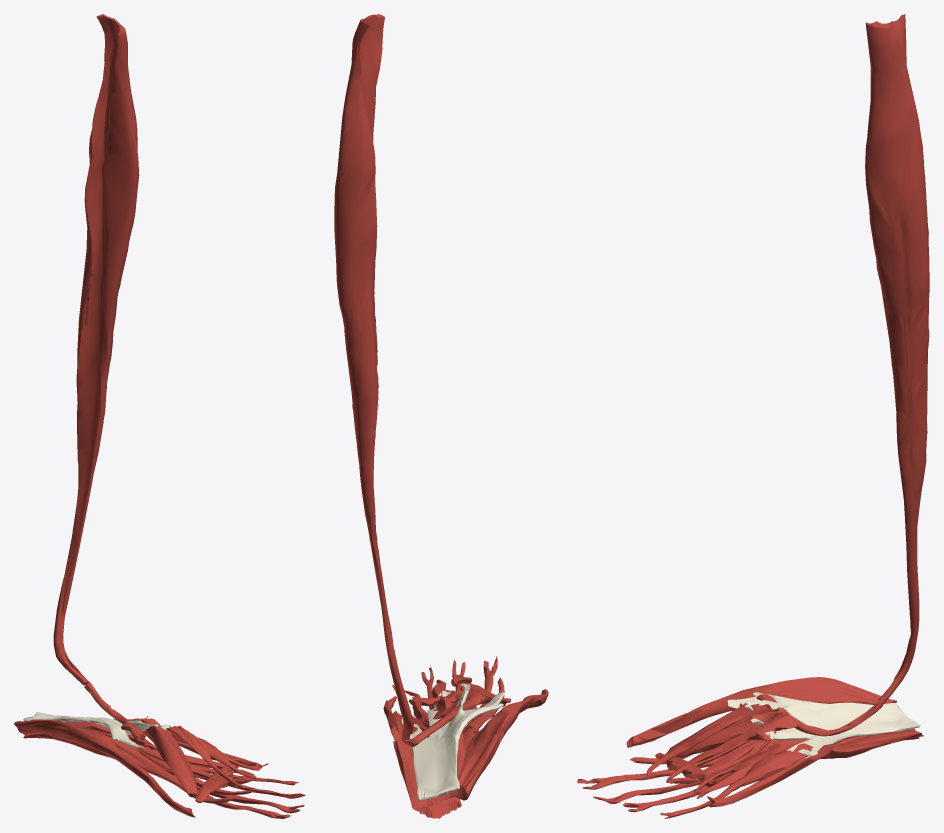
Rendered from footm.glb.
3 views of the same model, side by side, from view 1: azimuth 30°, elevation 25°; view 2: azimuth 150°, elevation 25°; view 3: azimuth 270°, elevation 25° (orthographic). The views are drawn at different scales.
Visible parts, largest first — view 1: left fibularis longus, left abductor hallucis, left flexor digitorum brevis, oblique head of left adductor hallucis, left long plantar ligament, first lumbrical of left foot, first plantar interosseous of left foot, transverse head of left adductor hallucis; view 2: left fibularis longus, left long plantar ligament, left abductor hallucis, left flexor digitorum brevis, abductor digiti minimi of left foot, oblique head of left adductor hallucis; view 3: left fibularis longus, left long plantar ligament, left abductor hallucis, left flexor digitorum brevis, abductor digiti minimi of left foot, oblique head of left adductor hallucis, third lumbrical of left foot, first plantar interosseous of left foot, second plantar interosseous of left foot, third plantar interosseous of left foot.
Part boxes in pixels (bbox=[...]): left fibularis longus: bbox=[53, 14, 145, 740]; left abductor hallucis: bbox=[14, 719, 195, 817]; left flexor digitorum brevis: bbox=[23, 733, 305, 818]; oblique head of left adductor hallucis: bbox=[134, 716, 198, 797]; left long plantar ligament: bbox=[23, 712, 169, 747]; first lumbrical of left foot: bbox=[100, 733, 232, 803]; first plantar interosseous of left foot: bbox=[166, 727, 254, 789]; transverse head of left adductor hallucis: bbox=[195, 763, 238, 802]; left fibularis longus: bbox=[334, 14, 486, 746]; left long plantar ligament: bbox=[409, 683, 504, 801]; left abductor hallucis: bbox=[453, 689, 548, 800]; left flexor digitorum brevis: bbox=[392, 656, 497, 818]; abductor digiti minimi of left foot: bbox=[383, 696, 454, 811]; oblique head of left adductor hallucis: bbox=[430, 683, 507, 719]; left fibularis longus: bbox=[739, 14, 929, 736]; left long plantar ligament: bbox=[727, 692, 920, 755]; left abductor hallucis: bbox=[626, 677, 896, 747]; left flexor digitorum brevis: bbox=[577, 730, 919, 818]; abductor digiti minimi of left foot: bbox=[707, 728, 923, 807]; oblique head of left adductor hallucis: bbox=[666, 703, 797, 757]; third lumbrical of left foot: bbox=[669, 740, 767, 783]; first plantar interosseous of left foot: bbox=[647, 714, 744, 777]; second plantar interosseous of left foot: bbox=[666, 727, 759, 782]; third plantar interosseous of left foot: bbox=[694, 743, 781, 796].
Bounding box in the file's own units: 0.1105 × 0.4246 × 0.1774.
